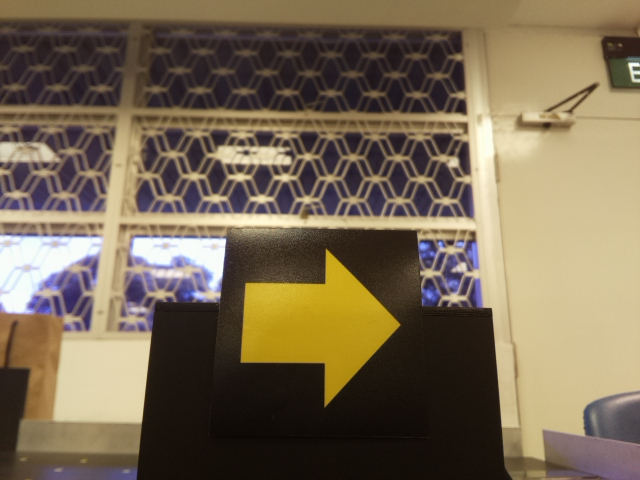right: (234, 242, 406, 411)
